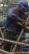hard-hat: (18, 0, 28, 9)
